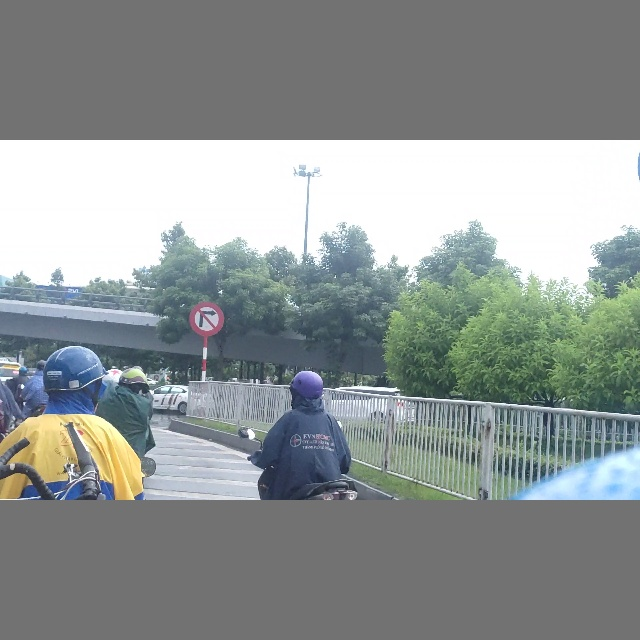P.123b: (189, 301, 225, 336)
